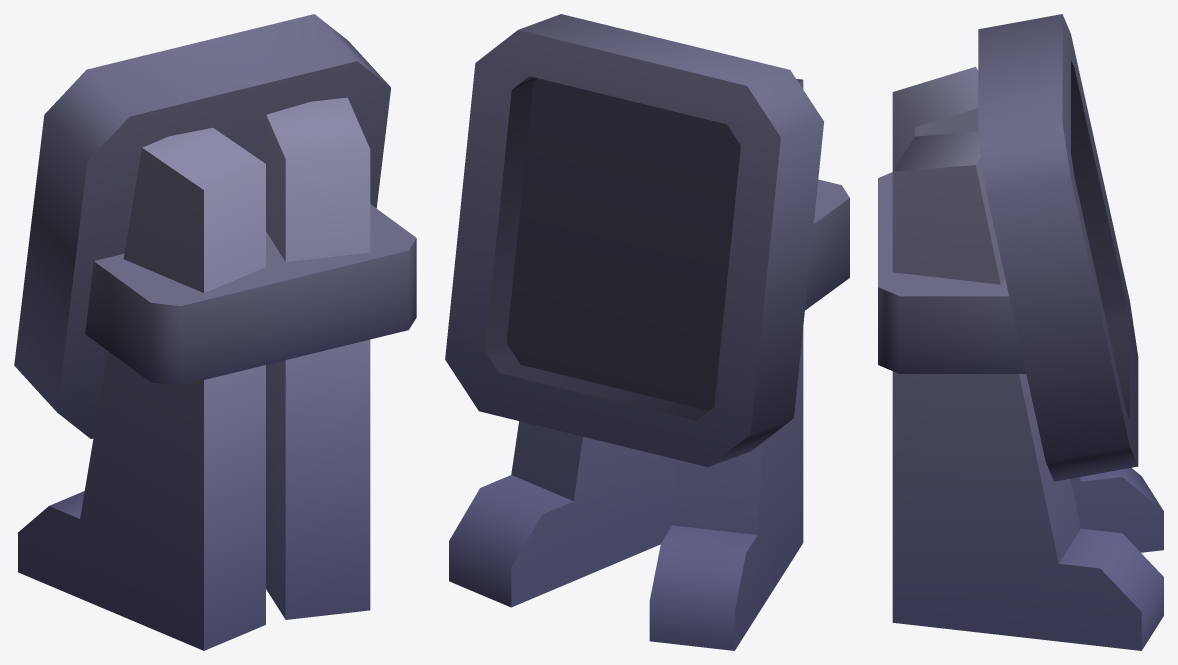
The model's file is screen-small.glb.
The picture shows the model from 3 angles, left to right: view 1: azimuth 30°, elevation 25°; view 2: azimuth 150°, elevation 25°; view 3: azimuth 270°, elevation 25°; orthographic projection. The views are drawn at different scales.
Parts seen in each view (by area): view 1: screen-small; view 2: screen-small; view 3: screen-small.
Boxes of the visible parts, <box> form: screen-small: <box>14,14,416,650</box>; screen-small: <box>445,14,849,650</box>; screen-small: <box>878,14,1163,650</box>.
Bounding box in the file's own units: 0.6 × 0.9913 × 0.4992.
